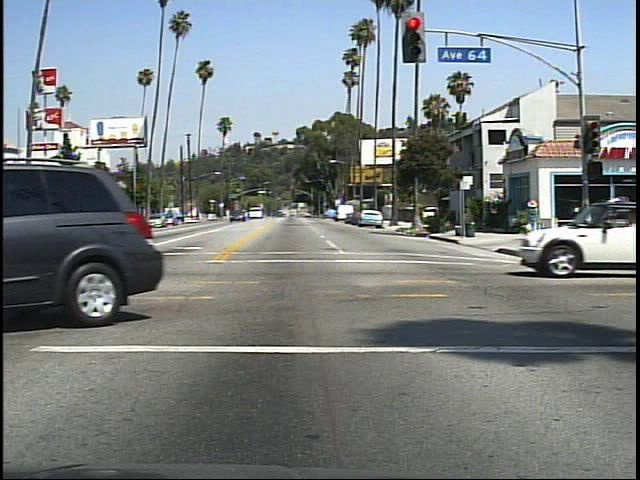person: (522, 195, 549, 248)
